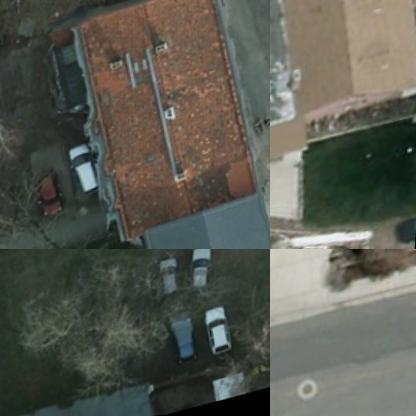car: (66, 139, 108, 203), (183, 249, 225, 306), (31, 166, 70, 226), (149, 258, 189, 310), (203, 310, 238, 362)
